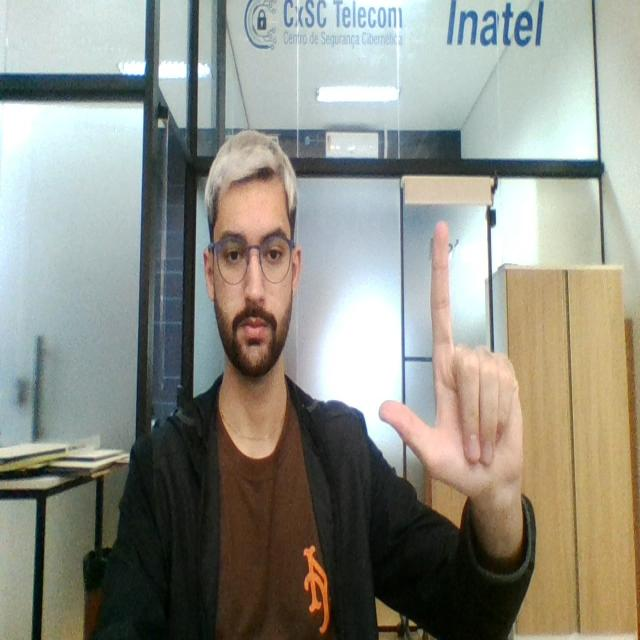L: (374, 220, 529, 505)
